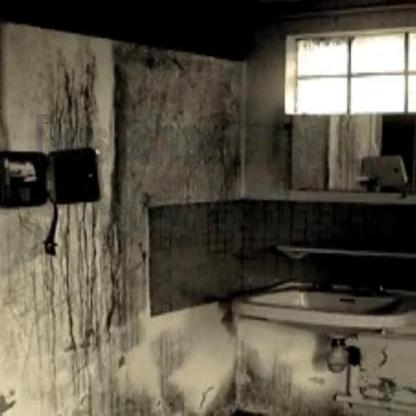other: (291, 48, 402, 119)
